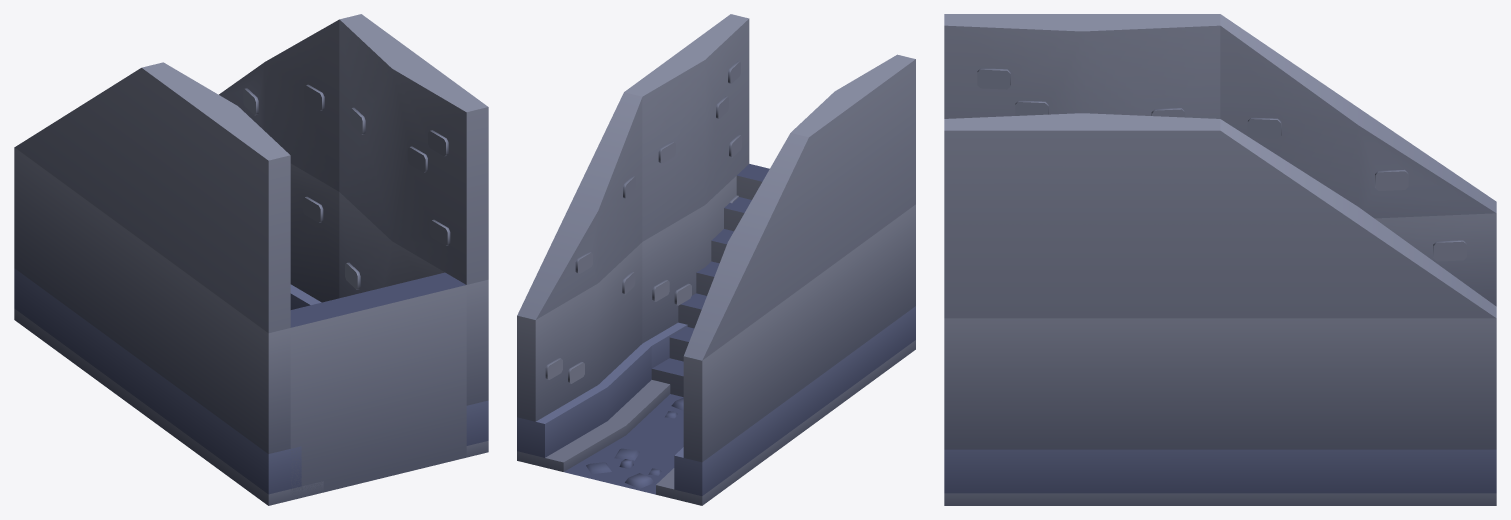
The model's file is stairs.glb.
The picture shows the model from 3 angles, left to right: view 1: azimuth 30°, elevation 25°; view 2: azimuth 150°, elevation 25°; view 3: azimuth 270°, elevation 25°; orthographic projection. The views are drawn at different scales.
Parts seen in each view (by area): view 1: stairs; view 2: stairs; view 3: stairs.
Boxes of the visible parts, x1=… form: stairs: x1=14, y1=14, x2=488, y2=505; stairs: x1=517, y1=14, x2=915, y2=505; stairs: x1=944, y1=14, x2=1496, y2=505.
Bounding box in the file's own units: 4 × 6 × 8.
